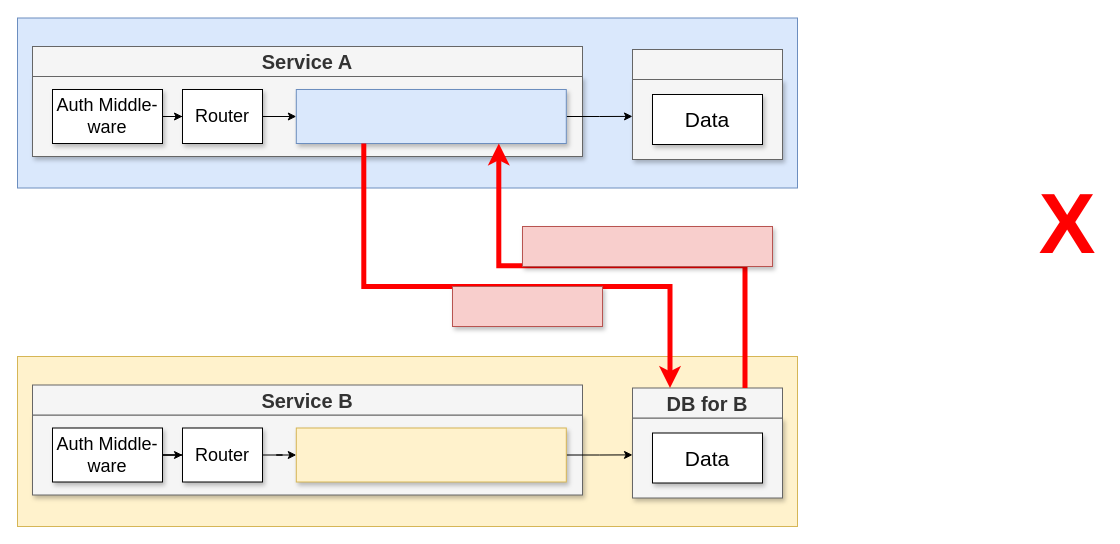
Image size: 1120x544. Some labels were removed from this diagram. The centre of each missing label's shape, as x and y in pixels:
DB for A: the point at 707,64
Feature A: the point at 431,117
Feature B: the point at 431,456
Get User: the point at 528,308
{ firstName: 'Jill' }: the point at 648,248
